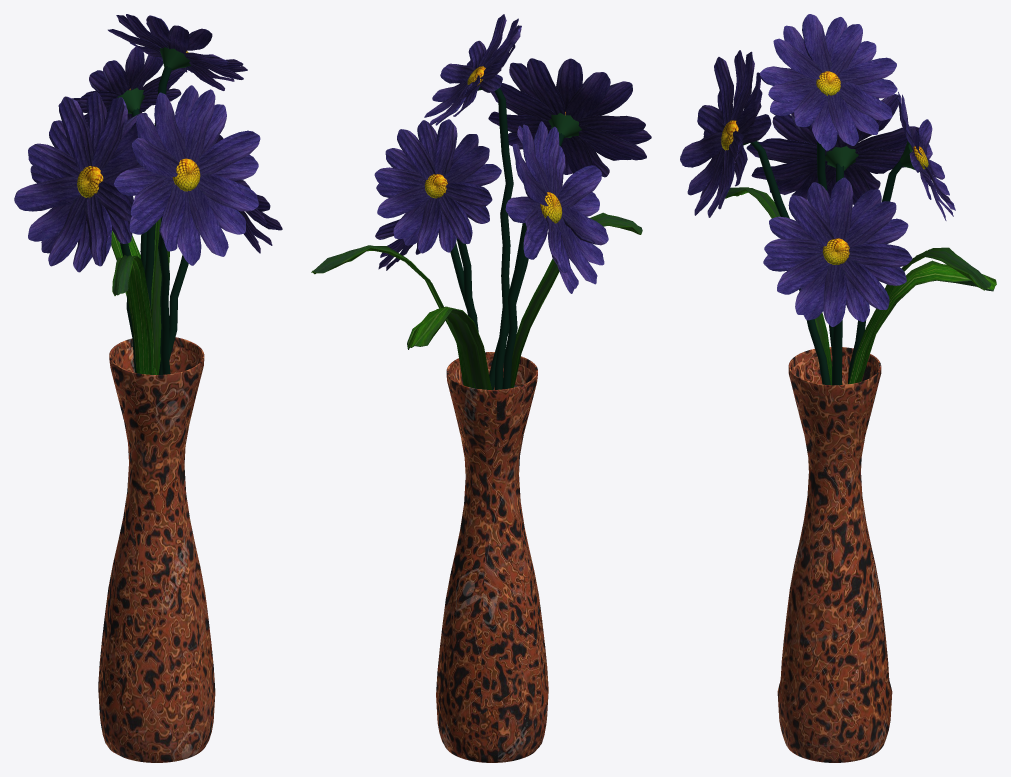
Rendered from flowervase.glb.
3 views of the same model, side by side, from view 1: azimuth 30°, elevation 25°; view 2: azimuth 150°, elevation 25°; view 3: azimuth 270°, elevation 25° (orthographic). The views are drawn at different scales.
Visible parts, largest first — view 1: nurbsToPoly1, pPlane10 (×3), pPlane48, pPlane13 (×2), pPlane4 (×2), pPlane14 (×2), pPlane2 (×2), pPlane12 (×2), pPlane1 (×2), pPlane5 (×4), pPlane11 (×2), pCylinder2 (×2) (+11 smaller); view 2: nurbsToPoly1, pCylinder1 (×3), pPlane47, pPlane10 (×3), pPlane12 (×2), pPlane13 (×2), pPlane48, pPlane14 (×2), pPlane2 (×2), pPlane11 (×2), pPlane3 (×2), pPlane4 (×2) (+9 smaller); view 3: nurbsToPoly1, pPlane10 (×3), pPlane2 (×3), pPlane4 (×3), pPlane14 (×3), pPlane11 (×3), pPlane1 (×3), pPlane13 (×2), pPlane12 (×2), pPlane3 (×3), pPlane15 (×3), pPlane7 (×3) (+12 smaller).
Part boxes in pixels (bbox=[...]): nurbsToPoly1: bbox=[98, 337, 215, 762]; pPlane10 (×3): bbox=[92, 47, 186, 171]; pPlane48: bbox=[112, 255, 155, 374]; pPlane13 (×2): bbox=[84, 173, 258, 266]; pPlane4 (×2): bbox=[14, 176, 186, 251]; pPlane14 (×2): bbox=[48, 185, 228, 266]; pPlane2 (×2): bbox=[59, 96, 178, 177]; pPlane12 (×2): bbox=[96, 130, 260, 220]; pPlane1 (×2): bbox=[28, 143, 172, 220]; pPlane5 (×4): bbox=[86, 25, 189, 153]; pPlane11 (×2): bbox=[100, 89, 215, 182]; pCylinder2 (×2): bbox=[158, 216, 188, 374]; nurbsToPoly1: bbox=[436, 352, 548, 762]; pCylinder1 (×3): bbox=[457, 87, 526, 389]; pPlane47: bbox=[407, 306, 491, 389]; pPlane10 (×3): bbox=[433, 58, 582, 192]; pPlane12 (×2): bbox=[446, 165, 601, 207]; pPlane13 (×2): bbox=[439, 193, 608, 245]; pPlane48: bbox=[510, 212, 642, 388]; pPlane14 (×2): bbox=[417, 197, 597, 284]; pPlane2 (×2): bbox=[397, 81, 632, 179]; pPlane11 (×2): bbox=[444, 126, 559, 196]; pPlane3 (×2): bbox=[505, 115, 645, 223]; pPlane4 (×2): bbox=[377, 186, 567, 272]; nurbsToPoly1: bbox=[777, 347, 892, 762]; pPlane10 (×3): bbox=[731, 14, 853, 240]; pPlane2 (×3): bbox=[714, 38, 834, 246]; pPlane4 (×3): bbox=[680, 87, 829, 294]; pPlane14 (×3): bbox=[694, 92, 858, 326]; pPlane11 (×3): bbox=[772, 24, 896, 247]; pPlane1 (×3): bbox=[697, 78, 822, 261]; pPlane13 (×2): bbox=[838, 82, 892, 309]; pPlane12 (×2): bbox=[838, 57, 912, 267]; pPlane3 (×3): bbox=[759, 66, 919, 250]; pPlane15 (×3): bbox=[741, 114, 908, 247]; pPlane7 (×3): bbox=[751, 79, 906, 285].
Size of the model in its own units: 5.83 by 19.01 by 7.57.
Materials: 6 (4 with a texture image).
